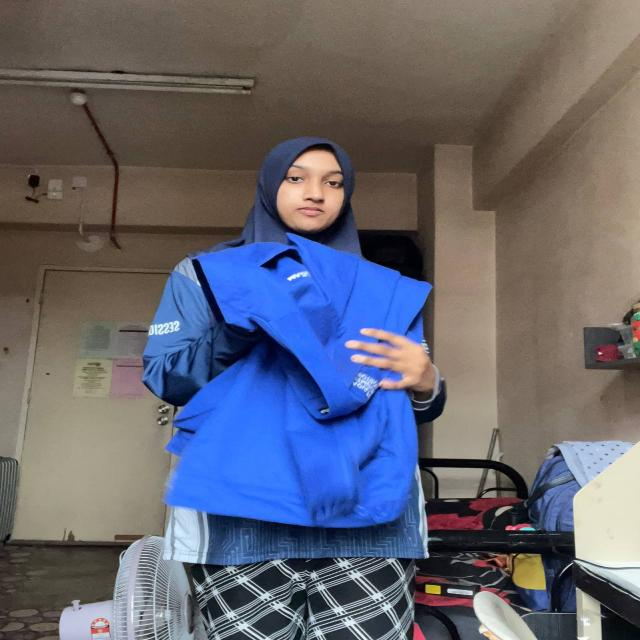person_without_labcoat: (143, 138, 445, 640)
